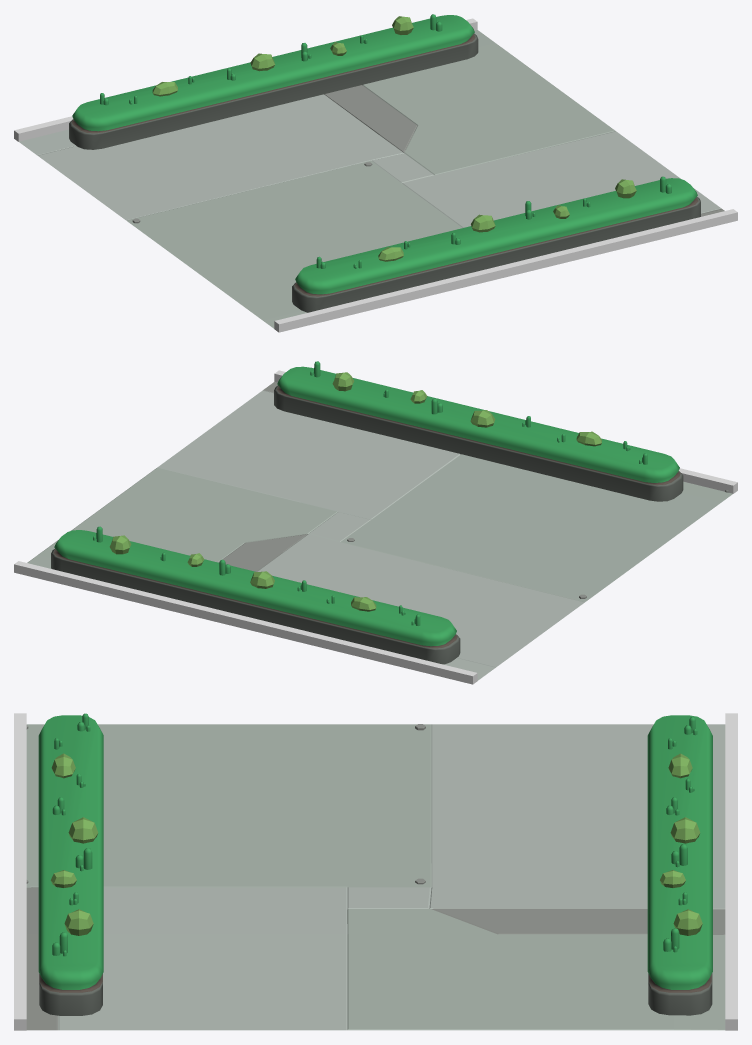
3 renders of one model, top to bottom at view 1: azimuth 30°, elevation 25°; view 2: azimuth 150°, elevation 25°; view 3: azimuth 270°, elevation 25°, orthographic. The views are drawn at different scales.
Parts seen in each view (by area): view 1: Scifi_Panel_04_Plaza014_group4.011_Scifi_Panel_04_Plaza014_g, TreePatch_Plaza014_group3.026_TreePatch_Plaza014_group3.032, TreePatch_Plaza014_group3.027_TreePatch_Plaza014_group3.033, Cube.635_Cube.752, Cube.636_Cube.753; view 2: Scifi_Panel_04_Plaza014_group4.011_Scifi_Panel_04_Plaza014_g, TreePatch_Plaza014_group3.027_TreePatch_Plaza014_group3.033, TreePatch_Plaza014_group3.026_TreePatch_Plaza014_group3.032, Cube.636_Cube.753, Cube.635_Cube.752; view 3: Scifi_Panel_04_Plaza014_group4.011_Scifi_Panel_04_Plaza014_g, TreePatch_Plaza014_group3.026_TreePatch_Plaza014_group3.032, TreePatch_Plaza014_group3.027_TreePatch_Plaza014_group3.033, Cube.636_Cube.753, Cube.635_Cube.752, Cube.797_Cube.922, Cube.792_Cube.917, Cube.795_Cube.920, Cube.790_Cube.915.
Part boxes in pixels (x1=…): Scifi_Panel_04_Plaza014_group4.011_Scifi_Panel_04_Plaza014_g: x1=19, y1=30, x2=724, y2=328; TreePatch_Plaza014_group3.026_TreePatch_Plaza014_group3.032: x1=69, y1=15, x2=478, y2=149; TreePatch_Plaza014_group3.027_TreePatch_Plaza014_group3.033: x1=292, y1=178, x2=700, y2=312; Cube.635_Cube.752: x1=274, y1=209, x2=737, y2=332; Cube.636_Cube.753: x1=14, y1=18, x2=477, y2=141; Scifi_Panel_04_Plaza014_group4.011_Scifi_Panel_04_Plaza014_g: x1=27, y1=382, x2=732, y2=680; TreePatch_Plaza014_group3.027_TreePatch_Plaza014_group3.033: x1=274, y1=366, x2=683, y2=501; TreePatch_Plaza014_group3.026_TreePatch_Plaza014_group3.032: x1=51, y1=530, x2=460, y2=664; Cube.636_Cube.753: x1=14, y1=561, x2=477, y2=684; Cube.635_Cube.752: x1=274, y1=370, x2=737, y2=493; Scifi_Panel_04_Plaza014_group4.011_Scifi_Panel_04_Plaza014_g: x1=26, y1=724, x2=725, y2=1030; TreePatch_Plaza014_group3.026_TreePatch_Plaza014_group3.032: x1=647, y1=715, x2=712, y2=1015; TreePatch_Plaza014_group3.027_TreePatch_Plaza014_group3.033: x1=38, y1=715, x2=103, y2=1015; Cube.636_Cube.753: x1=725, y1=713, x2=737, y2=1030; Cube.635_Cube.752: x1=14, y1=713, x2=26, y2=1030; Cube.797_Cube.922: x1=64, y1=909, x2=93, y2=935; Cube.792_Cube.917: x1=670, y1=817, x2=700, y2=843; Cube.795_Cube.920: x1=68, y1=817, x2=98, y2=843; Cube.790_Cube.915: x1=673, y1=909, x2=702, y2=935.
Bounding box in the file's own units: 10 × 0.9439 × 10.
